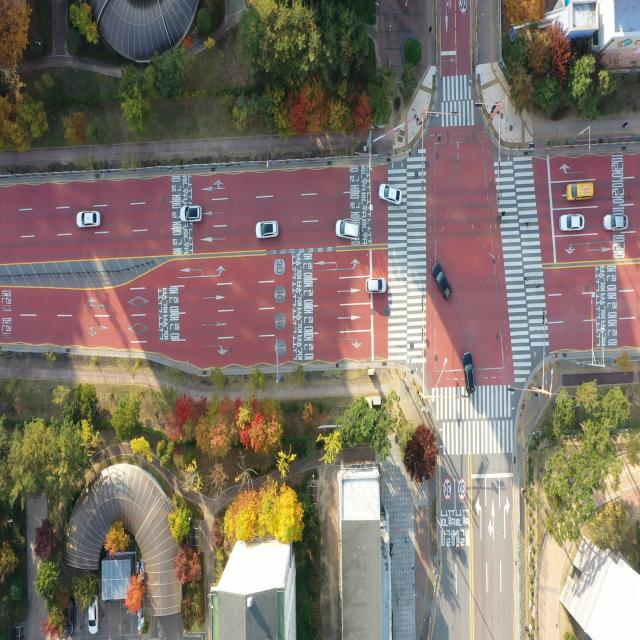car: (436, 266, 454, 301), (462, 352, 474, 396), (565, 184, 594, 202), (337, 218, 362, 237), (379, 183, 401, 203), (255, 219, 278, 238), (560, 213, 584, 231), (603, 212, 627, 230), (79, 210, 102, 228), (180, 204, 201, 222), (368, 277, 388, 294), (89, 603, 99, 636), (459, 481, 466, 501), (446, 482, 453, 501)
